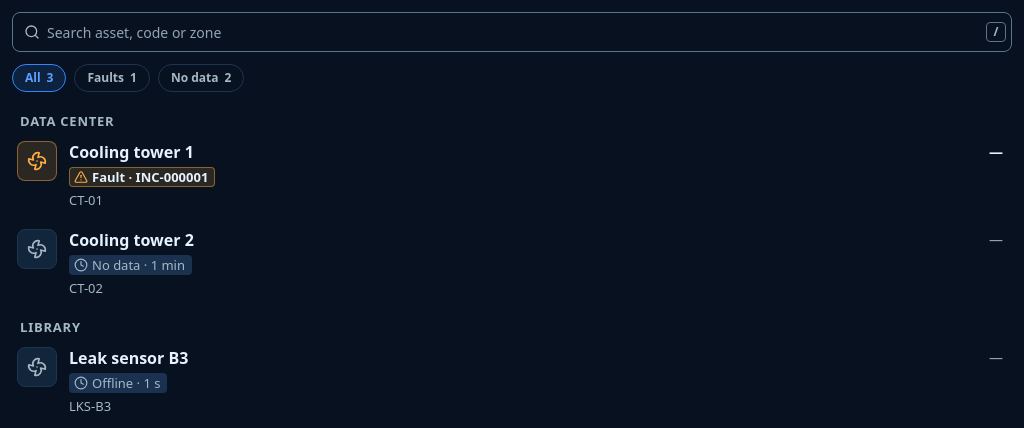
Test: AssetFeed › the list › lists stale and offline assets in No data, and the count matches
Click the tab "No data 2" at (201, 78), box [158, 64, 244, 92]
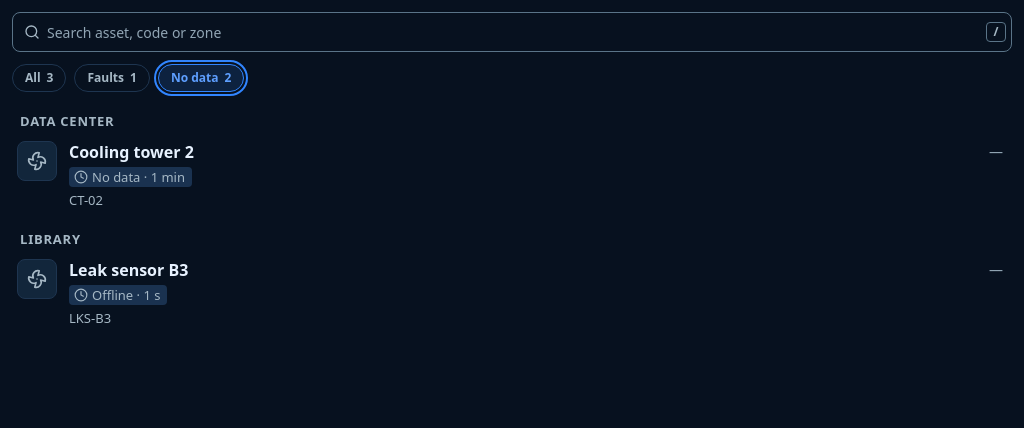
Expected: the button "Cooling tower 2 — No data · 1 min CT-02" is shown, [8, 132, 1016, 218]
Now the button "Cooling tower 1" is gone
